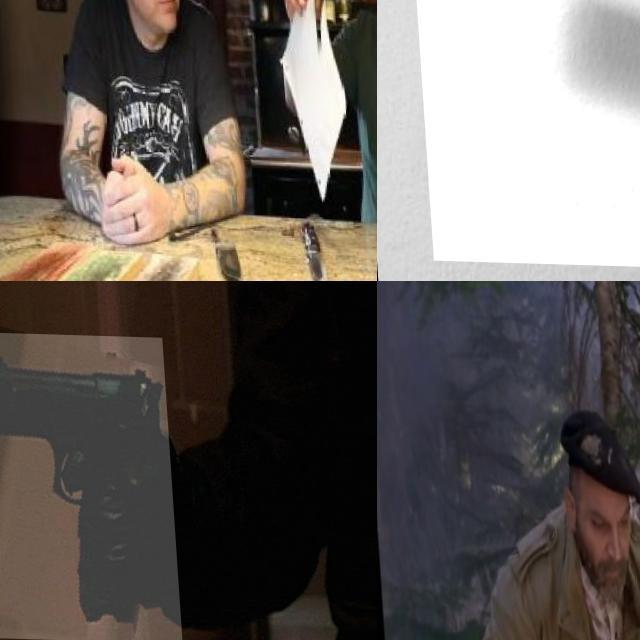gun-knife-thesis - v11 Yolov5 augmented: (403, 0, 640, 272), (0, 330, 174, 640)
